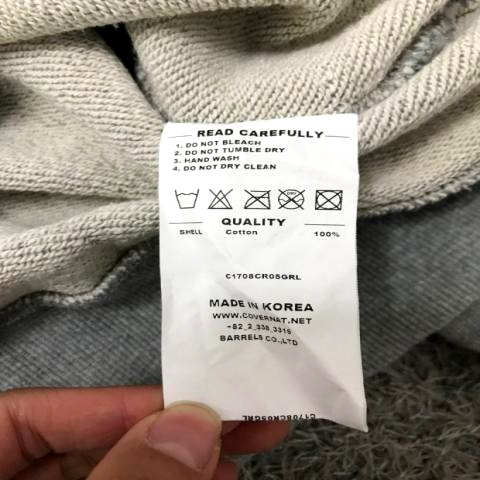DN_bleach: (208, 186, 235, 212)
DN_dry_clean: (275, 187, 311, 217)
DN_iron: (243, 184, 273, 214)
DN_tumble_dry: (313, 187, 345, 215)
machine_wash: (173, 184, 200, 213)
